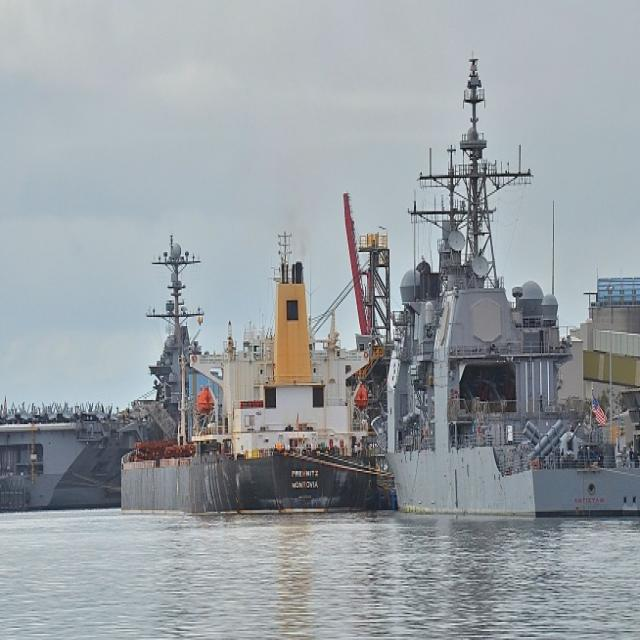Portanaves: (1, 214, 207, 522)
